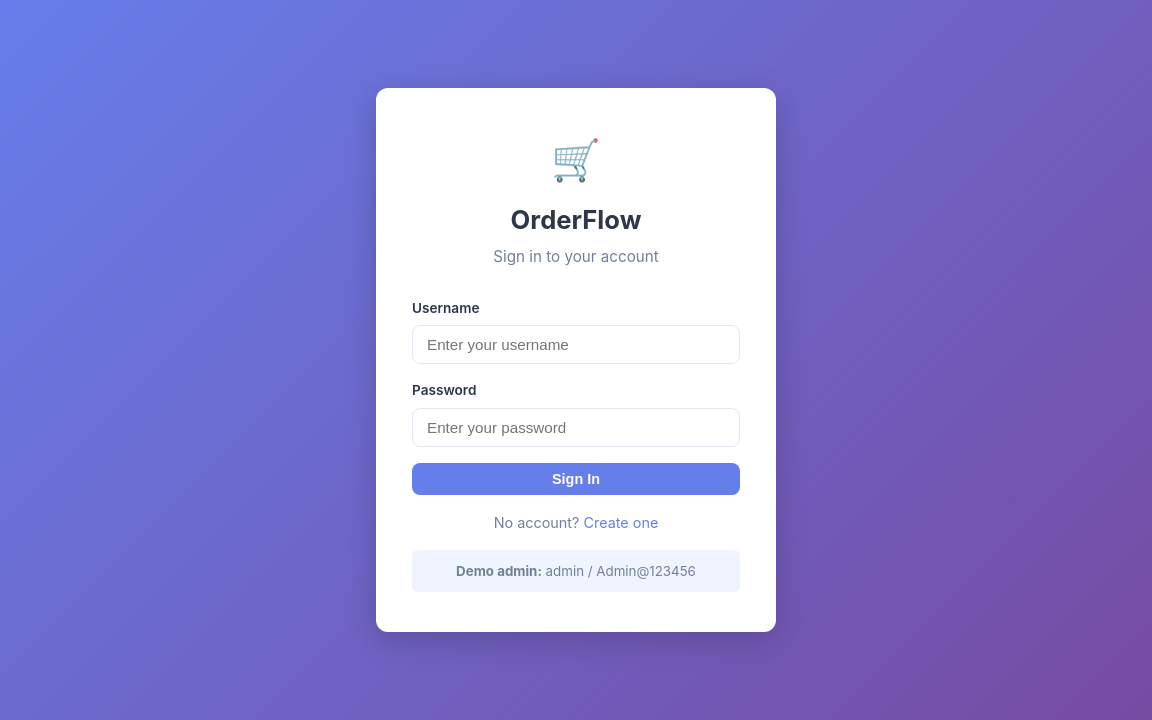
Test: LoginPage › shows error alert when login() rejects
Type "bad" into the field labelled "Username" at (576, 345), box [412,325,740,364]
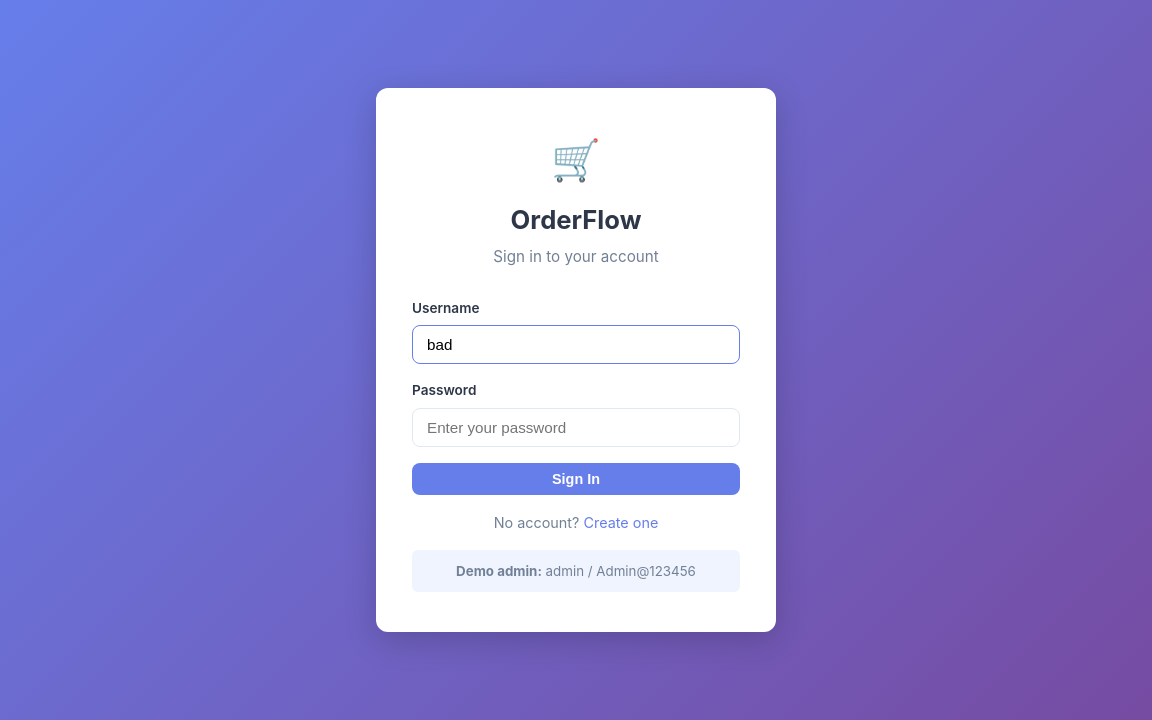
Type "wrong" into the password field labelled "Password" at (576, 428), box [412,408,740,447]
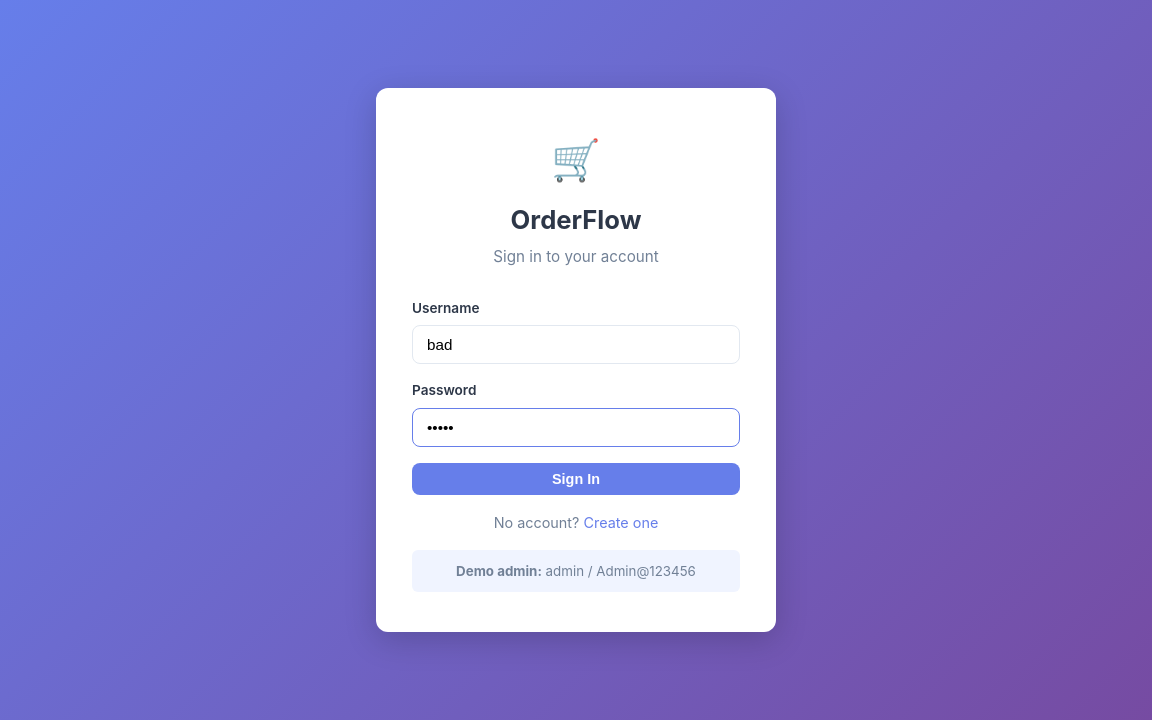
Click the button "Sign In" at (576, 479), box [412,463,740,495]
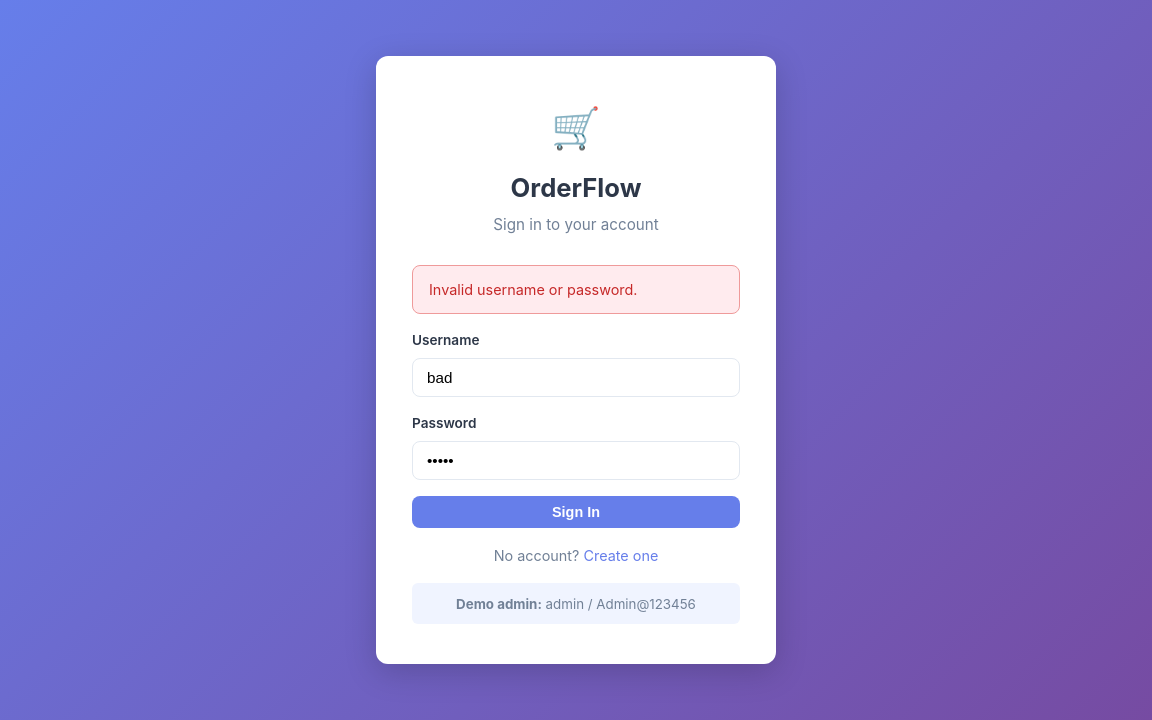
Check: the message "Invalid username or password." is shown, box [412,265,740,314]
